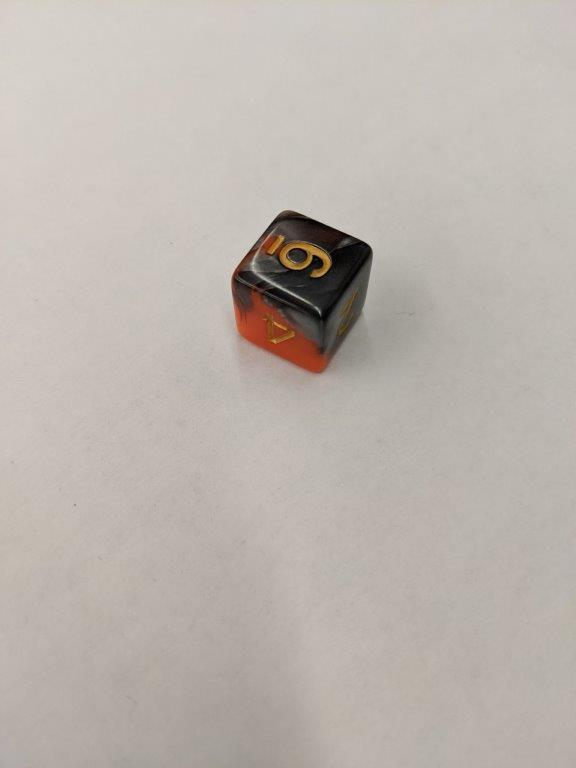d6-6: (229, 208, 374, 375)
